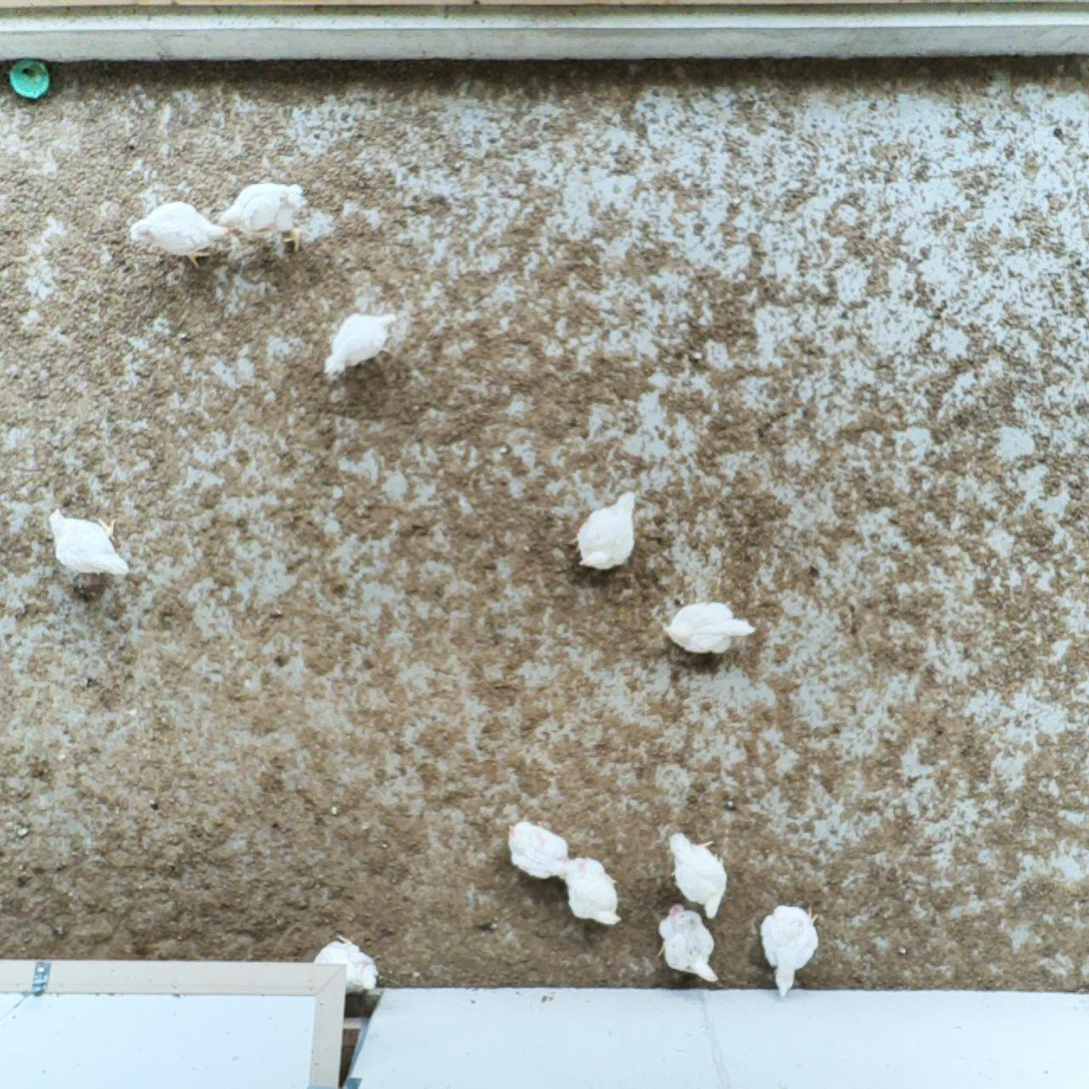chicken: (126, 198, 233, 270), (217, 179, 314, 257), (657, 596, 760, 664), (756, 898, 823, 1001), (317, 304, 404, 383), (45, 504, 133, 581), (567, 487, 643, 576), (661, 824, 729, 923), (653, 898, 727, 985), (554, 850, 627, 930), (309, 928, 383, 1001), (500, 818, 577, 883)
